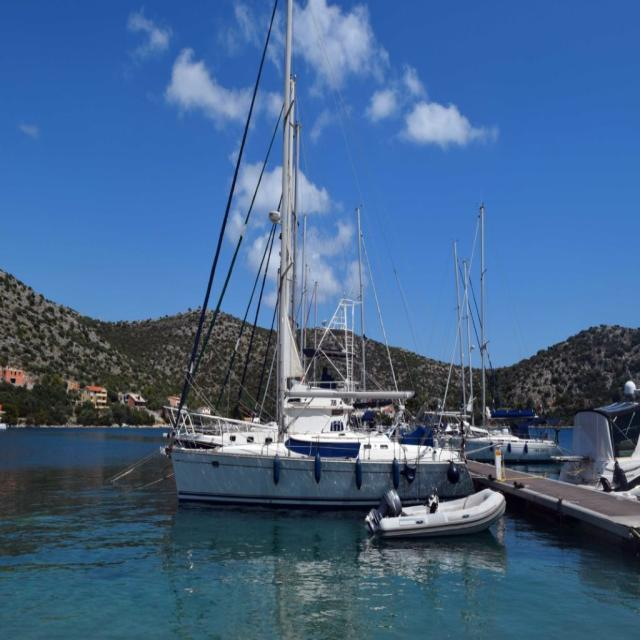houseboat: (176, 406, 468, 527)
